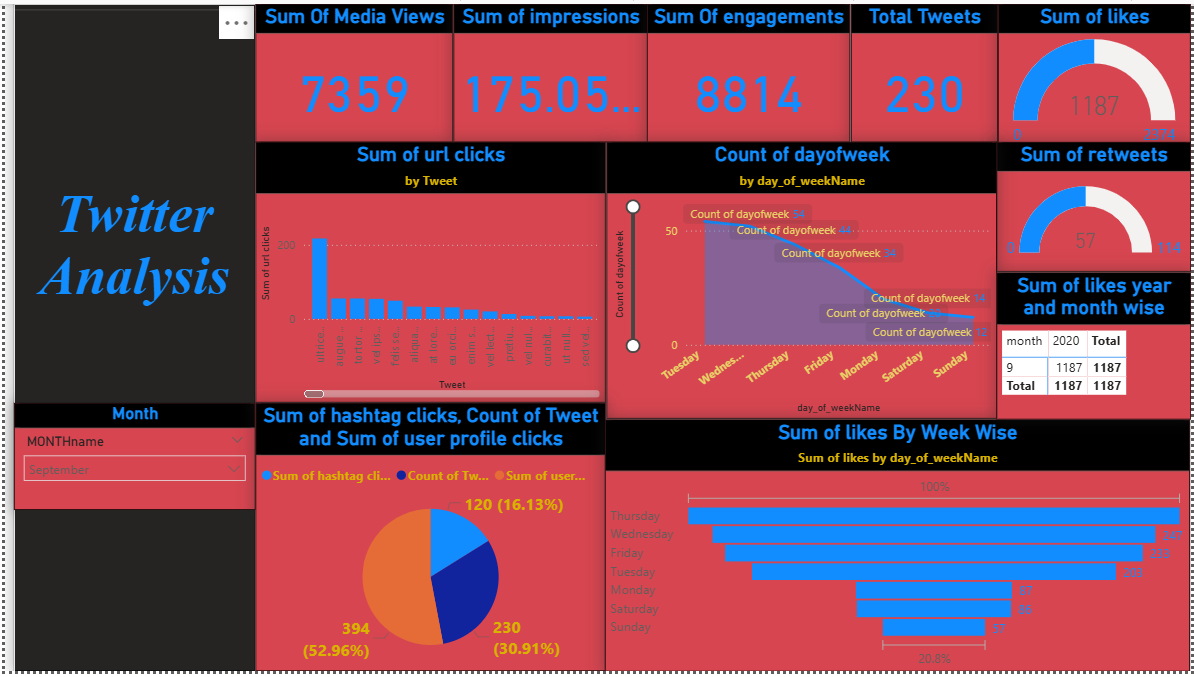

The dashboard page shown, as its layout file describes it:
{"tool":"powerbi","page":{"name":"Page 1","canvas":[1280,720],"ordinal":0},"visuals":[{"type":"textbox","box":[10,290,280,280],"z":0},{"type":"textbox","box":[9.4,0,279.7,689.8],"z":1000},{"type":"textbox","box":[9.4,0,260.8,720],"z":2000},{"type":"card","title":"Sum Of Media Views","fields":{"Values":["Sum(SocialMedia.media views)"]},"box":[270.2,0,213.5,149.3],"z":3000},{"type":"card","title":"Sum of impressions","fields":{"Values":["Sum(SocialMedia.impressions)"]},"box":[483.8,0,209.8,149.3],"z":4000},{"type":"card","title":"Sum Of engagements","fields":{"Values":["Sum(SocialMedia.engagements)"]},"box":[693.5,0,219.2,149.3],"z":5000},{"type":"card","title":"Total Tweets","fields":{"Values":["CountNonNull(SocialMedia.Tweet)"]},"box":[912.8,0,158.7,149.3],"z":6000},{"type":"slicer","title":"Month","fields":{"Values":["SocialMedia.MONTHname"]},"box":[9.4,430.9,260.8,115.3],"z":7000},{"type":"gauge","fields":{"Y":["Sum(SocialMedia.likes)"]},"box":[1071.5,0,207.9,162.5],"z":8000},{"type":"gauge","fields":{"Y":["Sum(SocialMedia.retweets)"]},"box":[1069.6,149.3,209.8,139.8],"z":9000},{"type":"clusteredColumnChart","fields":{"Y":["Sum(SocialMedia.url clicks)"],"Category":["SocialMedia.Tweet"]},"box":[270.2,149.3,378,281.6],"z":10000},{"type":"lineChart","fields":{"Category":["SocialMedia.day_of_weekName"],"Y":["CountNonNull(SocialMedia.dayofweek)"]},"box":[650.1,149.3,421.4,298.6],"z":11000},{"type":"pieChart","fields":{"Y":["Sum(SocialMedia.hashtag clicks)","CountNonNull(SocialMedia.Tweet)","Sum(SocialMedia.user profile clicks)"]},"box":[270.2,430.9,378,289.1],"z":12000},{"type":"funnel","title":"Sum of likes By Week Wise","fields":{"Category":["SocialMedia.day_of_weekName"],"Y":["Sum(SocialMedia.likes)"]},"box":[648.2,447.9,631.2,272.1],"z":13000},{"type":"pivotTable","title":"Sum of likes year and month wise","fields":{"Values":["Sum(SocialMedia.likes)"],"Rows":["SocialMedia.month"],"Columns":["SocialMedia.year"]},"box":[1069.6,289.1,209.8,158.7],"z":13001}]}

Visuals, with their boxes in screenshot pixels (x1, y1, x2, y2), scaled from the page's 1280x720 canvas onto the 1194x677 screenshot:
textbox: (x1=9, y1=273, x2=271, y2=536)
textbox: (x1=9, y1=0, x2=270, y2=649)
textbox: (x1=9, y1=0, x2=252, y2=676)
"Sum Of Media Views" card: (x1=252, y1=0, x2=451, y2=140)
"Sum of impressions" card: (x1=451, y1=0, x2=647, y2=140)
"Sum Of engagements" card: (x1=647, y1=0, x2=851, y2=140)
"Total Tweets" card: (x1=851, y1=0, x2=1000, y2=140)
"Month" slicer: (x1=9, y1=405, x2=252, y2=514)
gauge - Sum(SocialMedia.likes): (x1=1000, y1=0, x2=1193, y2=153)
gauge - Sum(SocialMedia.retweets): (x1=998, y1=140, x2=1193, y2=272)
clusteredColumnChart - Sum(SocialMedia.url clicks) x SocialMedia.Tweet: (x1=252, y1=140, x2=605, y2=405)
lineChart - SocialMedia.day_of_weekName x CountNonNull(SocialMedia.dayofweek): (x1=606, y1=140, x2=1000, y2=421)
pieChart - Sum(SocialMedia.hashtag clicks) x CountNonNull(SocialMedia.Tweet): (x1=252, y1=405, x2=605, y2=676)
"Sum of likes By Week Wise" funnel: (x1=605, y1=421, x2=1193, y2=676)
"Sum of likes year and month wise" pivotTable: (x1=998, y1=272, x2=1193, y2=421)
